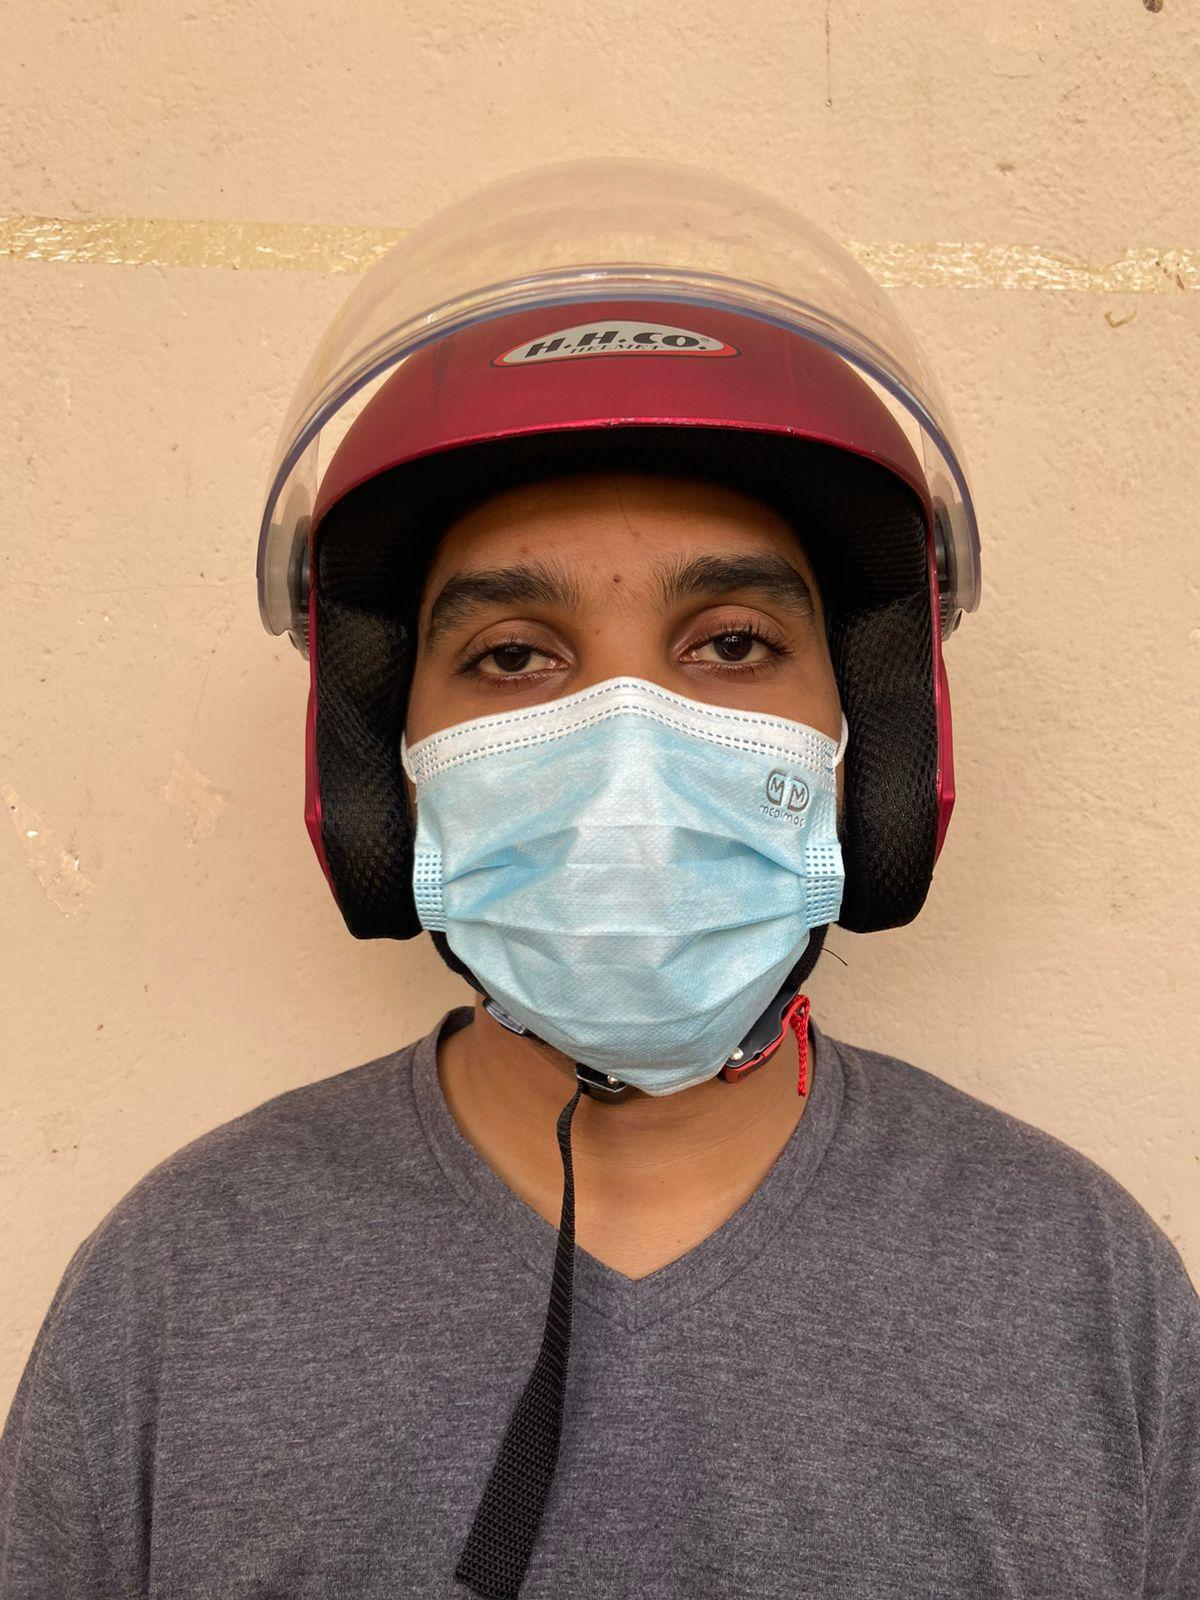helmet: (253, 154, 986, 942)
